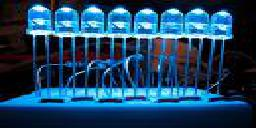LED: (104, 4, 133, 106), (24, 4, 52, 100), (54, 7, 80, 102), (155, 7, 187, 45)
